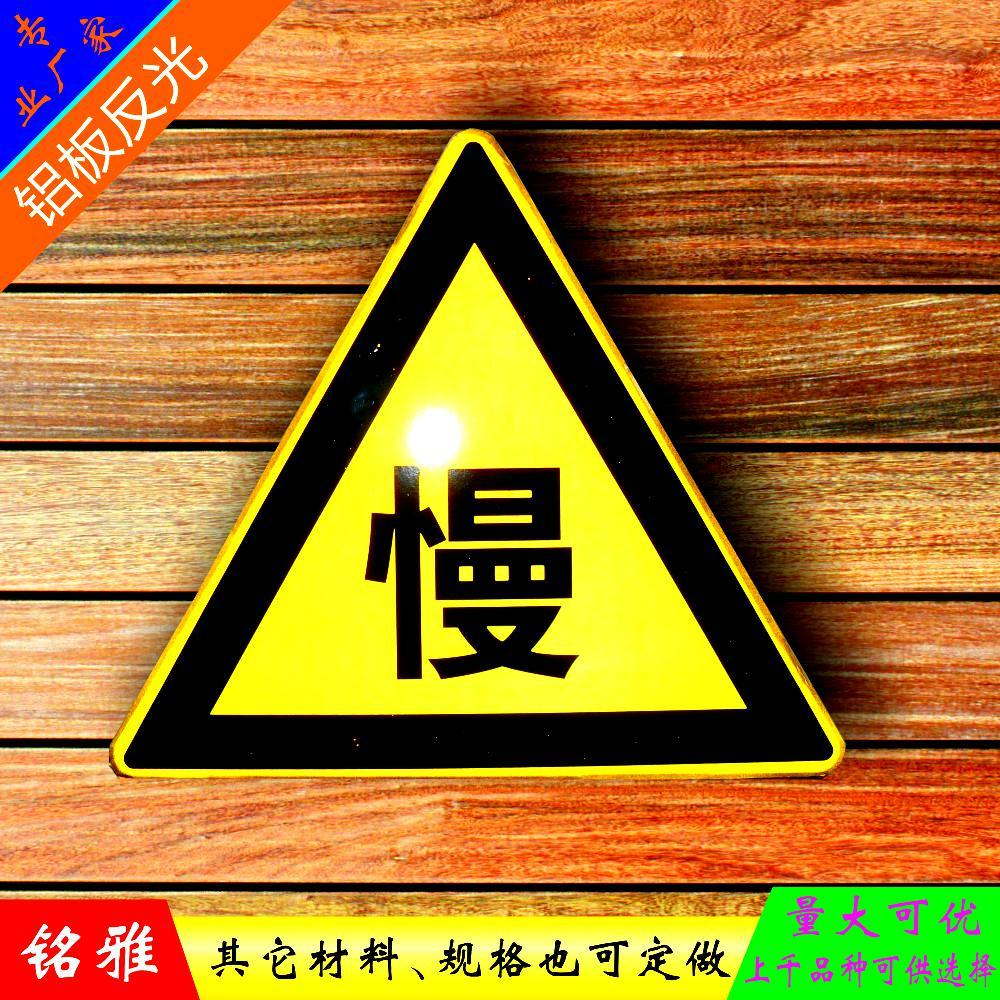sign: (106, 135, 867, 794)
